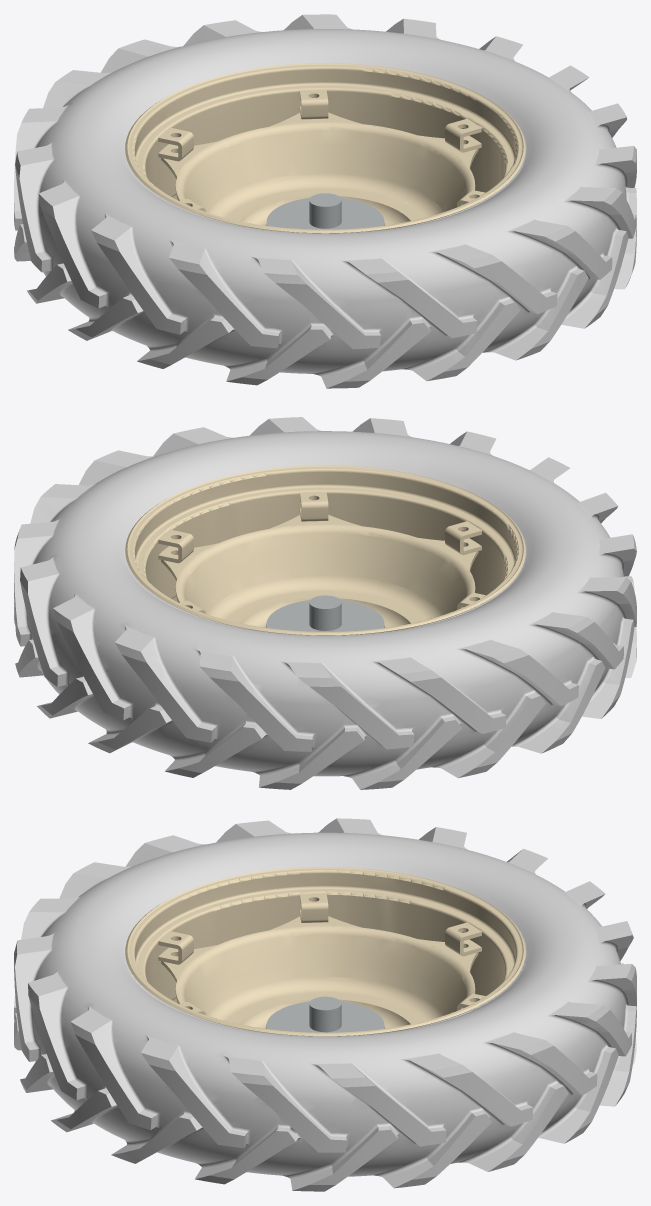
The model's file is rear_right_wheel_visual.obj.
The picture shows the model from 3 angles, top to bottom: view 1: azimuth 30°, elevation 25°; view 2: azimuth 150°, elevation 25°; view 3: azimuth 270°, elevation 25°; orthographic projection.
Parts seen in each view (by area): view 1: rear_right_wheel_visual; view 2: rear_right_wheel_visual; view 3: rear_right_wheel_visual.
Part boxes in pixels (box(x1,y1,x2,y2)): rear_right_wheel_visual: box(14, 14, 636, 388); rear_right_wheel_visual: box(14, 417, 636, 789); rear_right_wheel_visual: box(14, 818, 636, 1191).
Size of the model in its own units: 1.43 by 0.3248 by 1.43.
